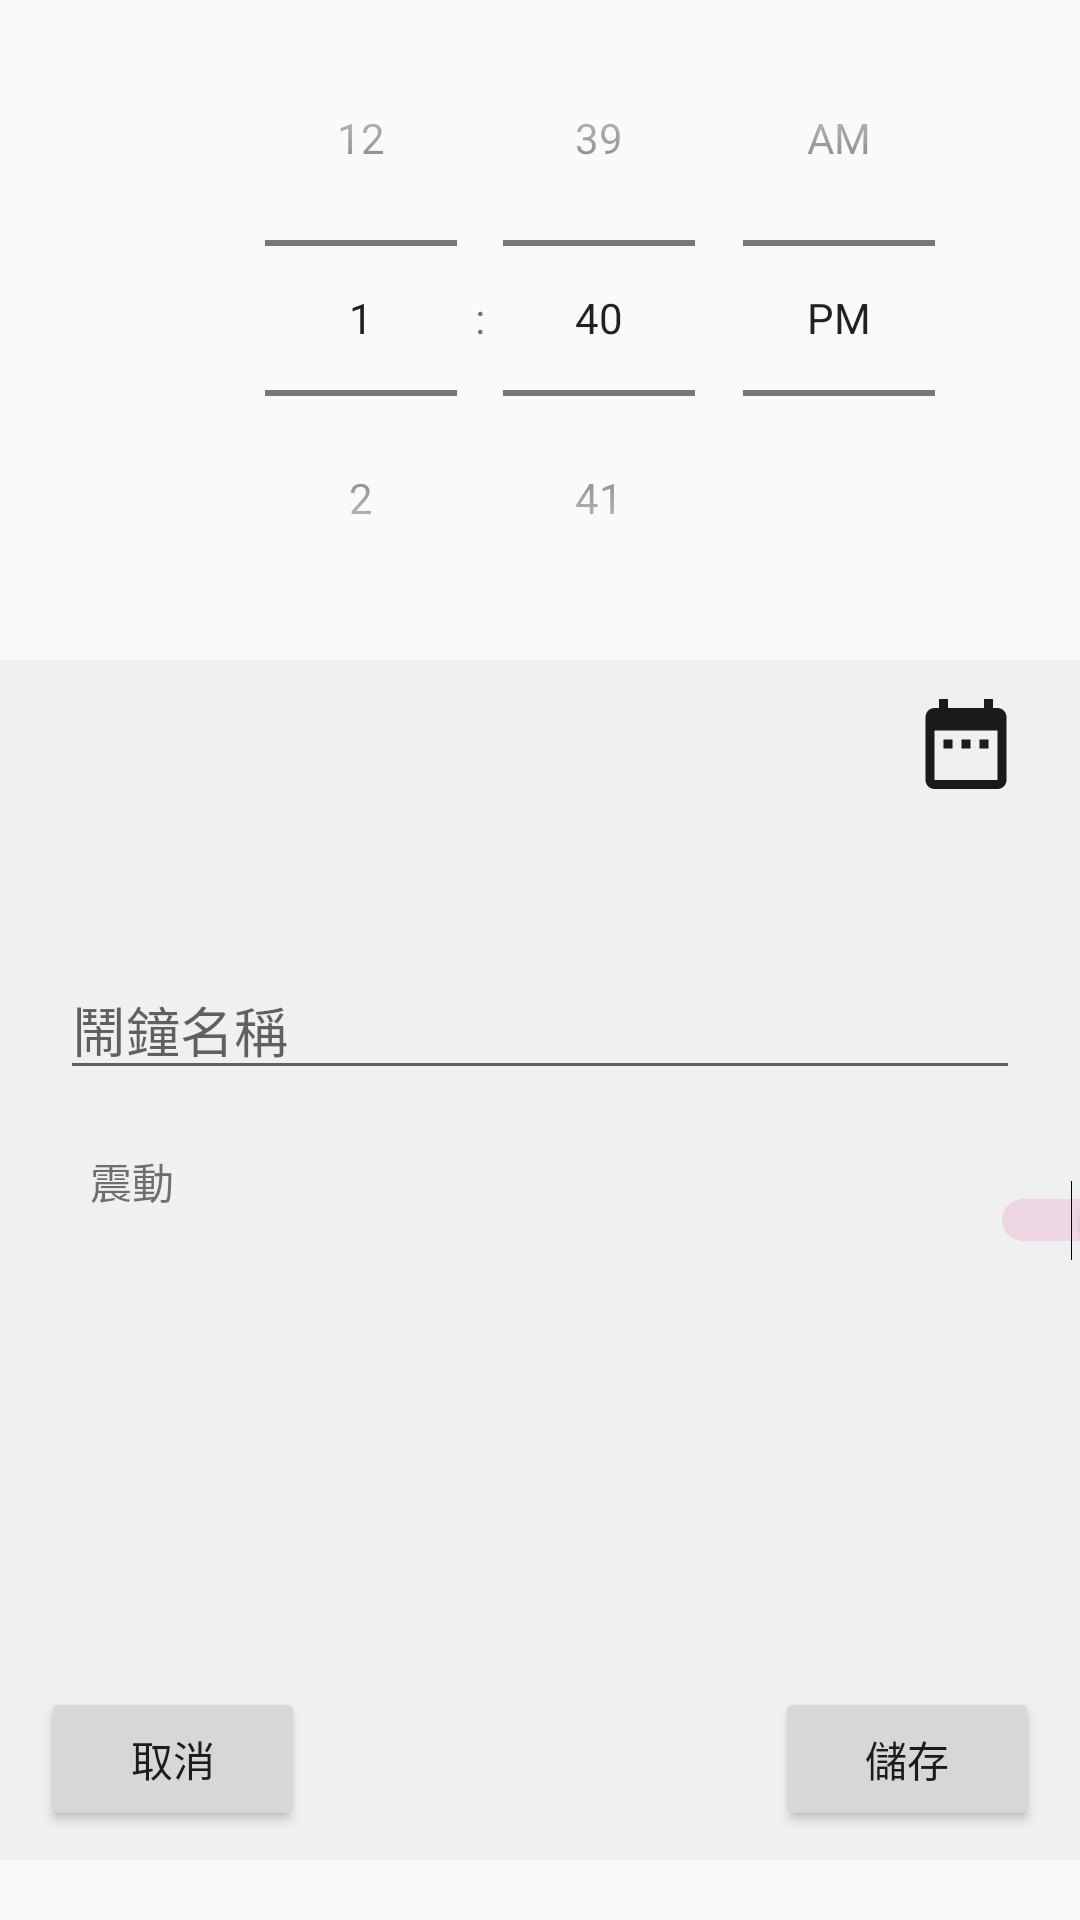

Named icons in this screenshot (1080×1920) and their bounding boxes, bbox=(x1, y1, x2, y2):
date range: bbox=(925, 699, 1007, 789)
